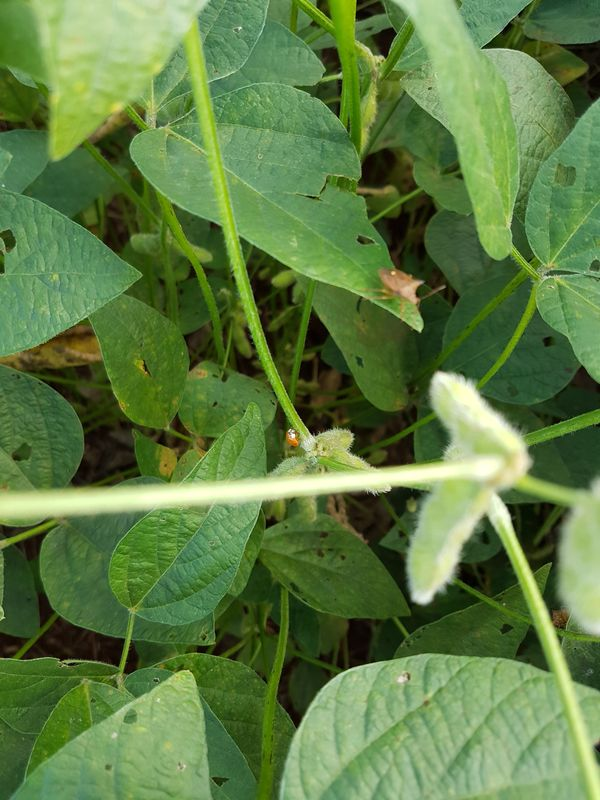Coccinellidae: (278, 424, 304, 452)
Euschistus_heros_adulto: (360, 259, 449, 322)
